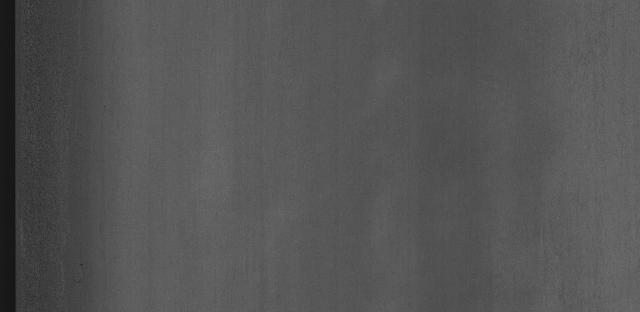silk_spot: (534, 12, 624, 303)
